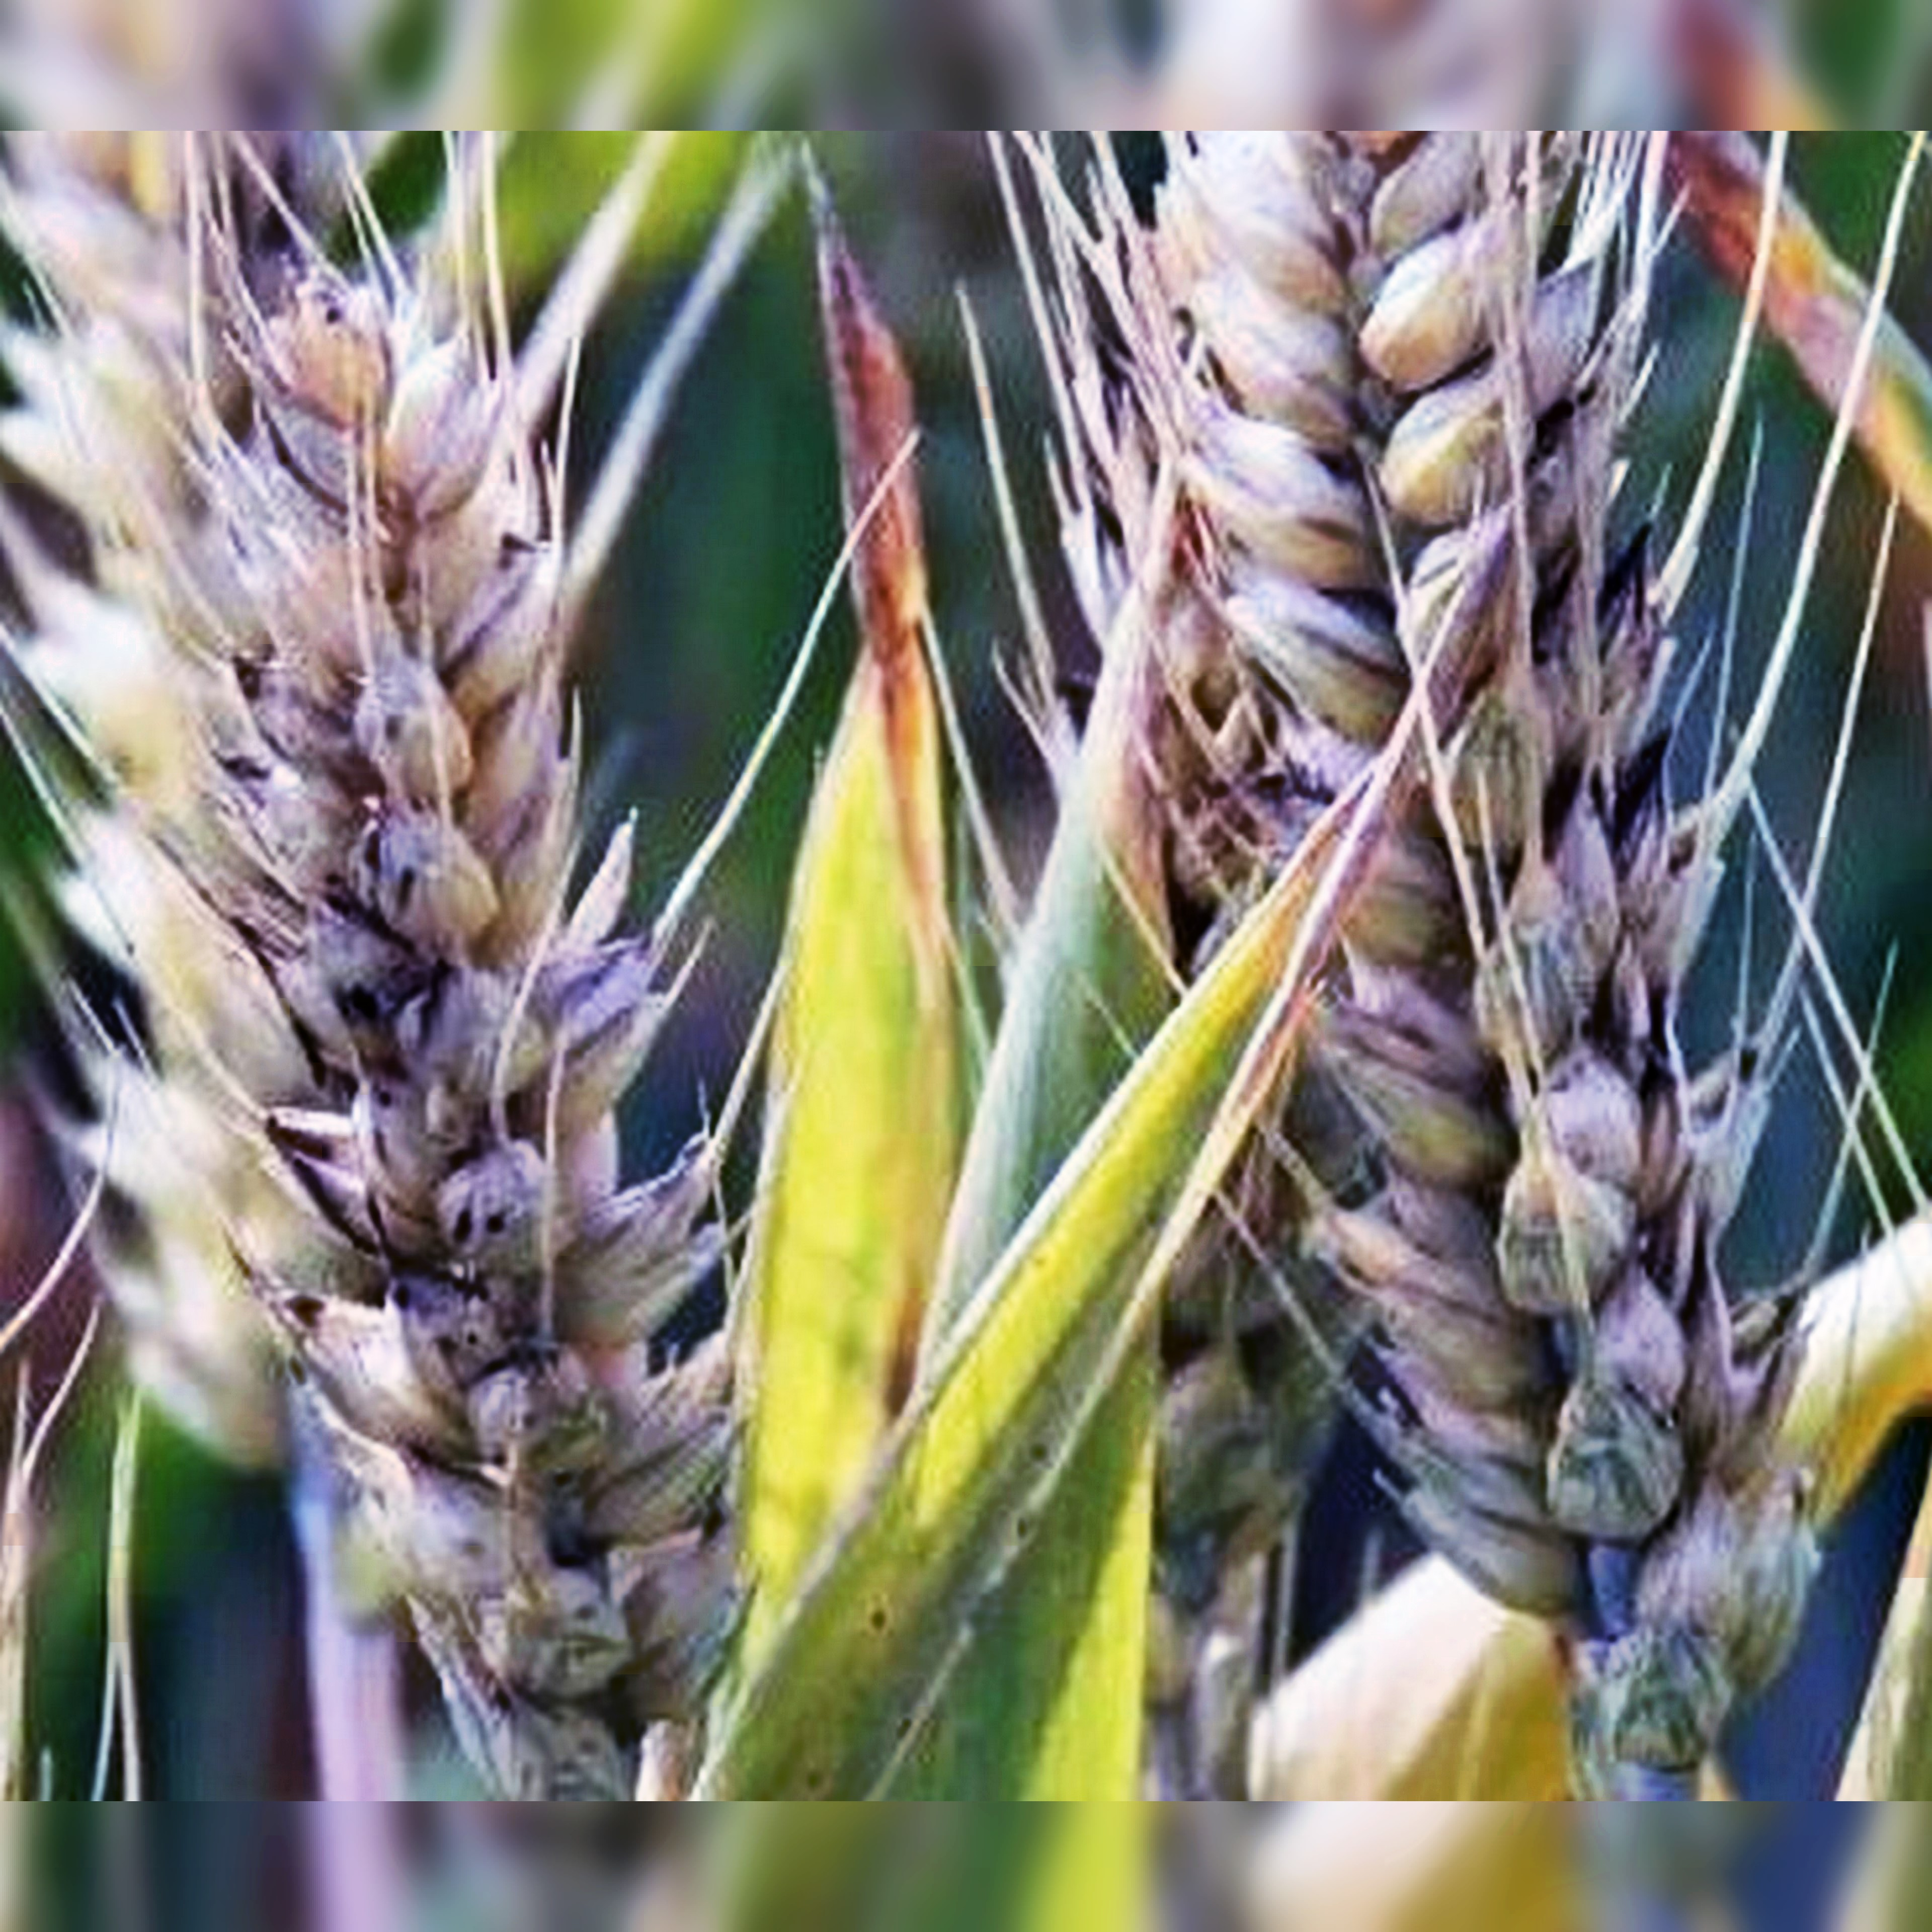Wheat scab: (1132, 143, 1858, 1651), (179, 255, 764, 1727)
